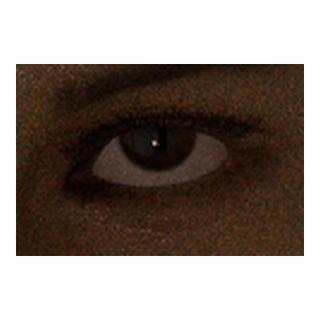pupil: (141, 117, 171, 147)
